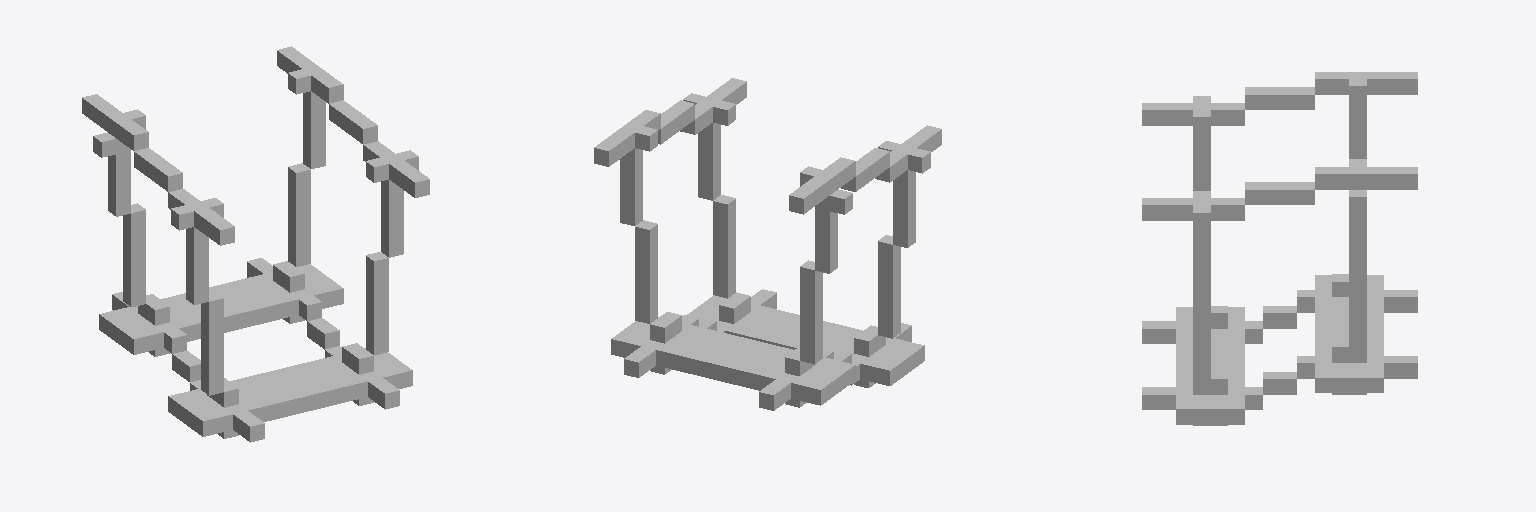
The model's file is rope_bridges_planks_flatupflat_l2.obj.
3 views of the same model, side by side, from view 1: azimuth 30°, elevation 25°; view 2: azimuth 150°, elevation 25°; view 3: azimuth 270°, elevation 25° (orthographic).
Parts seen in each view (by area): view 1: node_0_1_0; view 2: node_0_1_0; view 3: node_0_1_0.
Boxes of the visible parts, x1,y1,x2,y2 form: node_0_1_0: [82, 46, 429, 442]; node_0_1_0: [594, 78, 941, 410]; node_0_1_0: [1142, 72, 1417, 425].
Size of the model in its own units: 1 by 1.06 by 1.